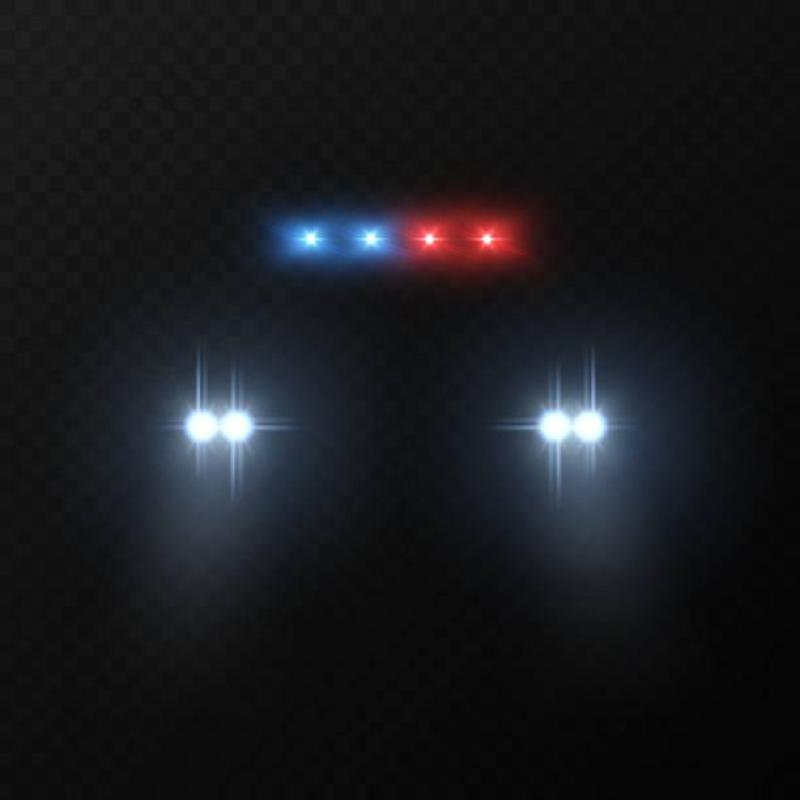AmbulanceSiren: (262, 182, 544, 284)
